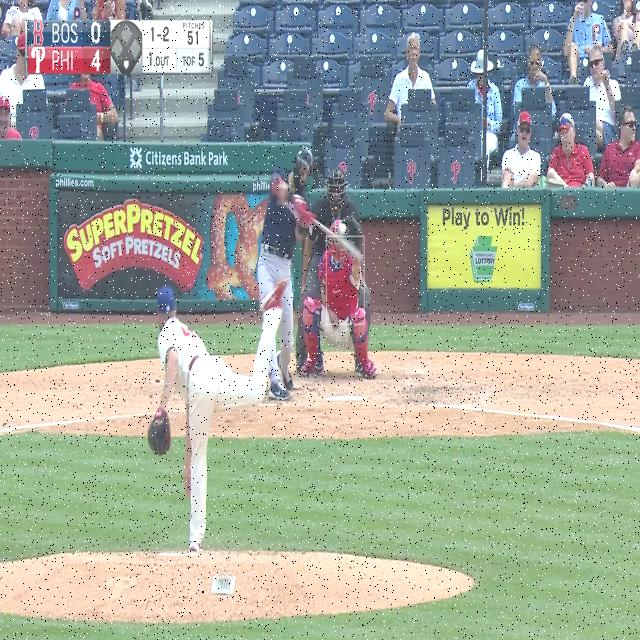baseball: (338, 222, 347, 236)
